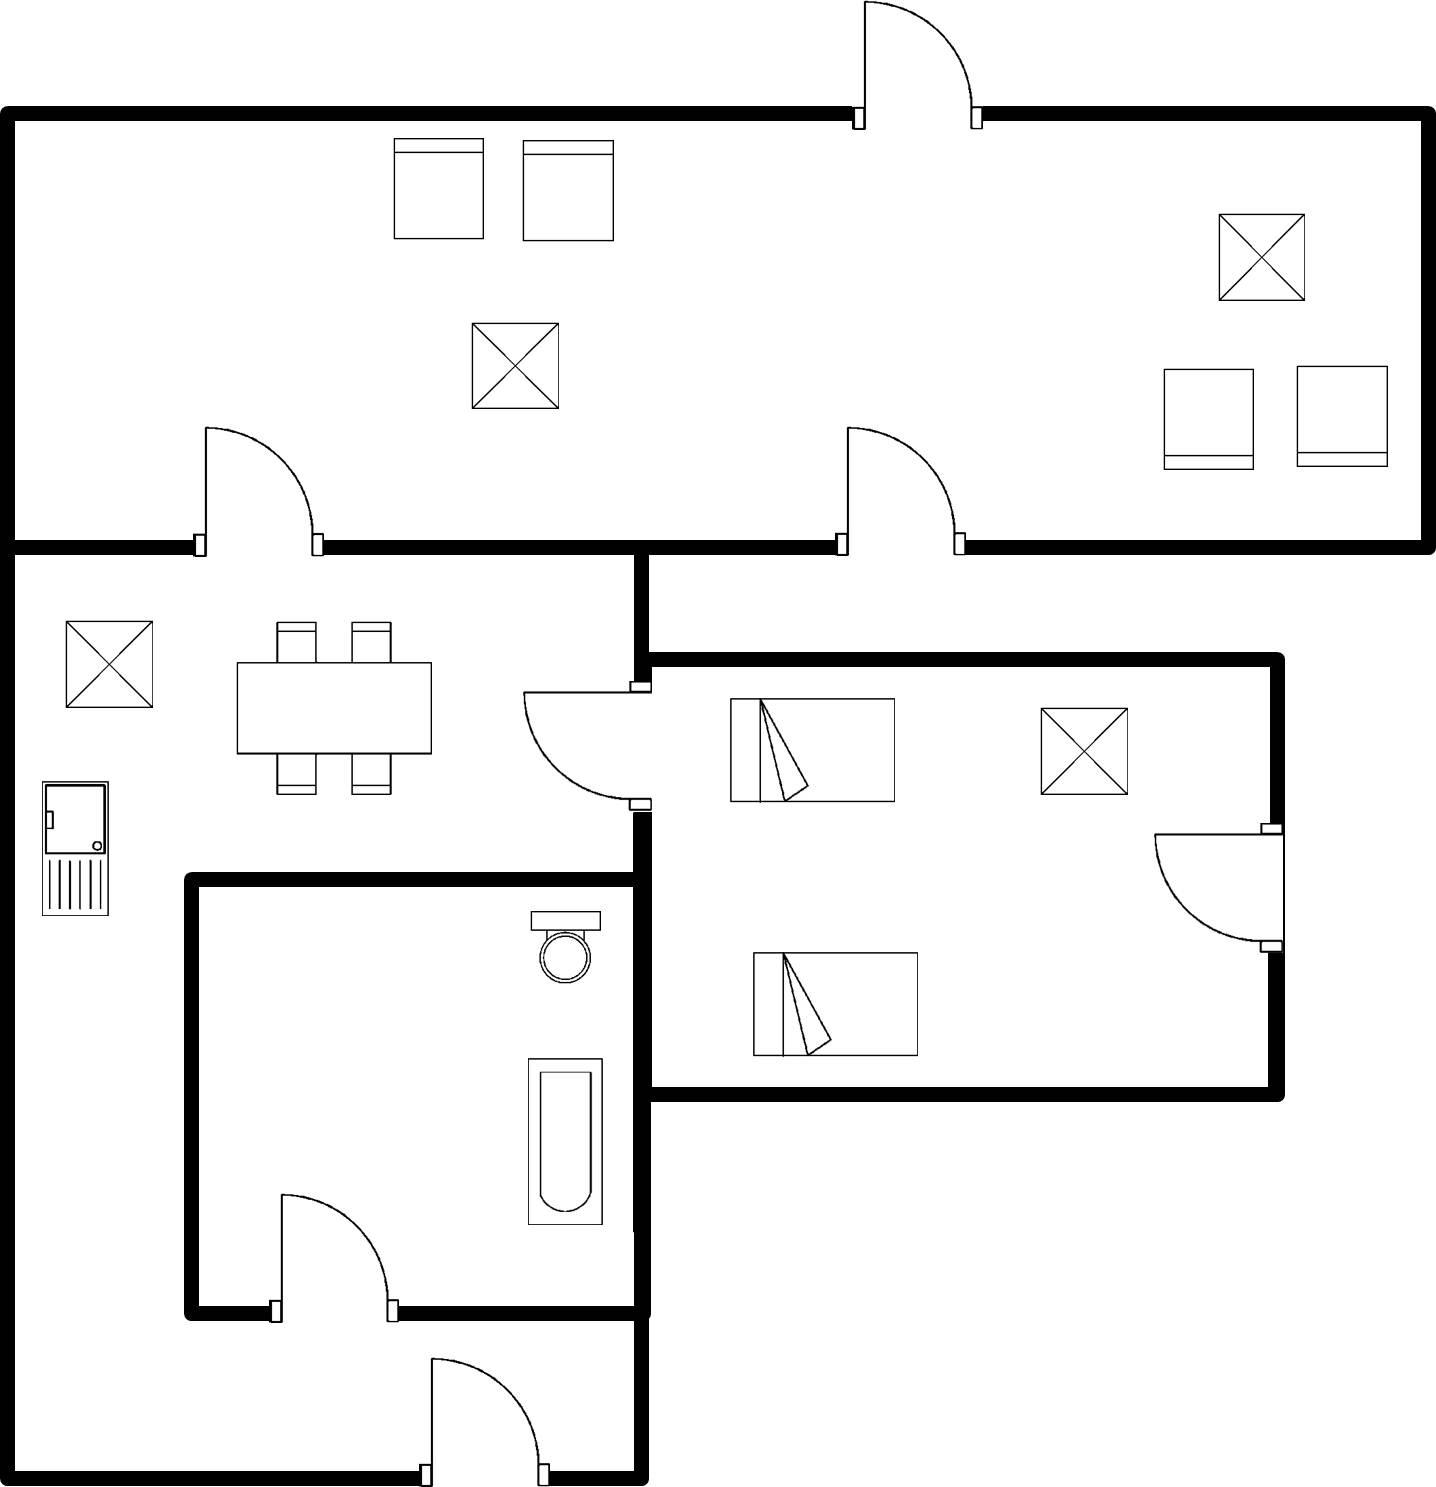bed: (713, 682, 905, 813), (745, 943, 930, 1067)
dining_table: (223, 609, 442, 805)
sink: (35, 769, 118, 924)
toilet: (515, 903, 607, 993)
tub: (516, 1045, 610, 1235)
